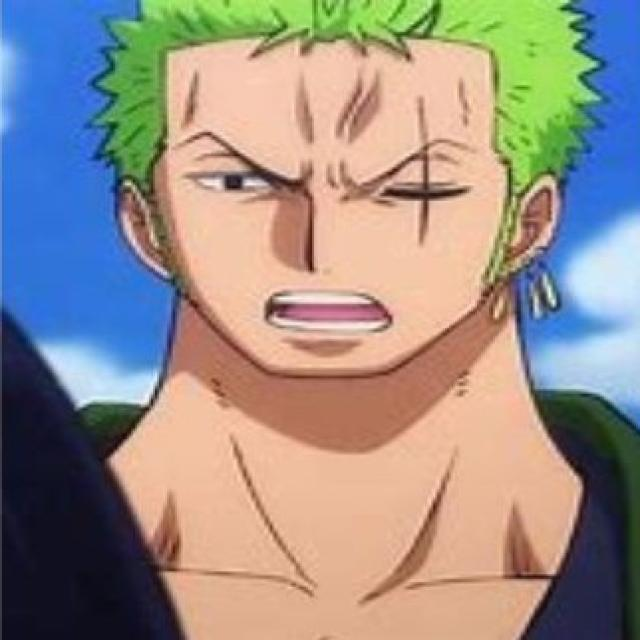Zoro: (91, 0, 640, 640)
